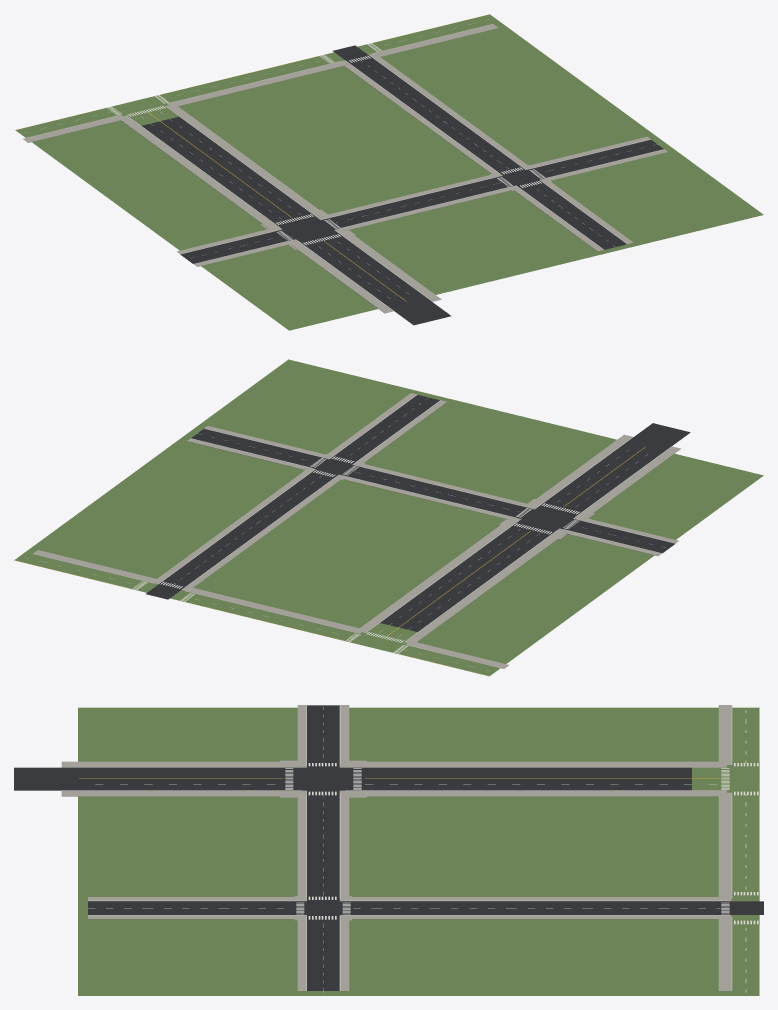
File: Ground_1_3.fbx
3 views of the same model, one above another, from view 1: azimuth 30°, elevation 25°; view 2: azimuth 150°, elevation 25°; view 3: azimuth 270°, elevation 25° (orthographic). The views are drawn at different scales.
Parts seen in each view (by area): view 1: Ground_1_3; view 2: Ground_1_3; view 3: Ground_1_3.
Boxes of the visible parts, left/top/right/bottom form: Ground_1_3: left=15, top=14, right=763, bottom=330; Ground_1_3: left=14, top=359, right=763, bottom=676; Ground_1_3: left=14, top=705, right=763, bottom=995.
Bounding box in the file's own units: 252 × 0.14 × 275.
